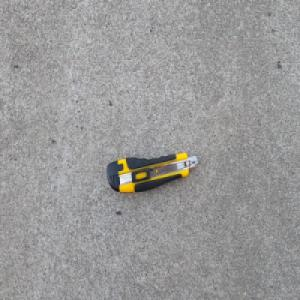Cutter: (106, 152, 198, 194)
